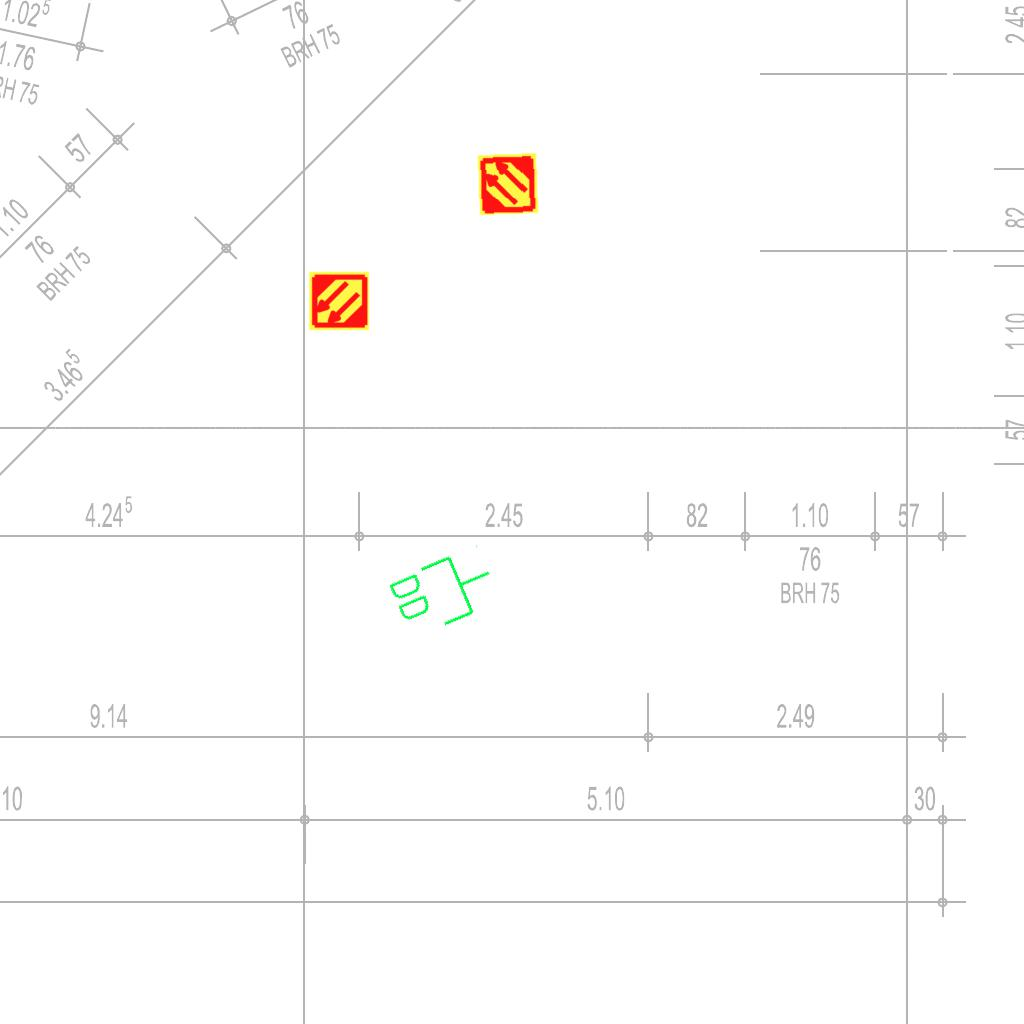ASR_Ansaugrauchmelder: (475, 151, 541, 217), (308, 270, 370, 332)
Datenanschluss_zweifach: (382, 539, 505, 644)
